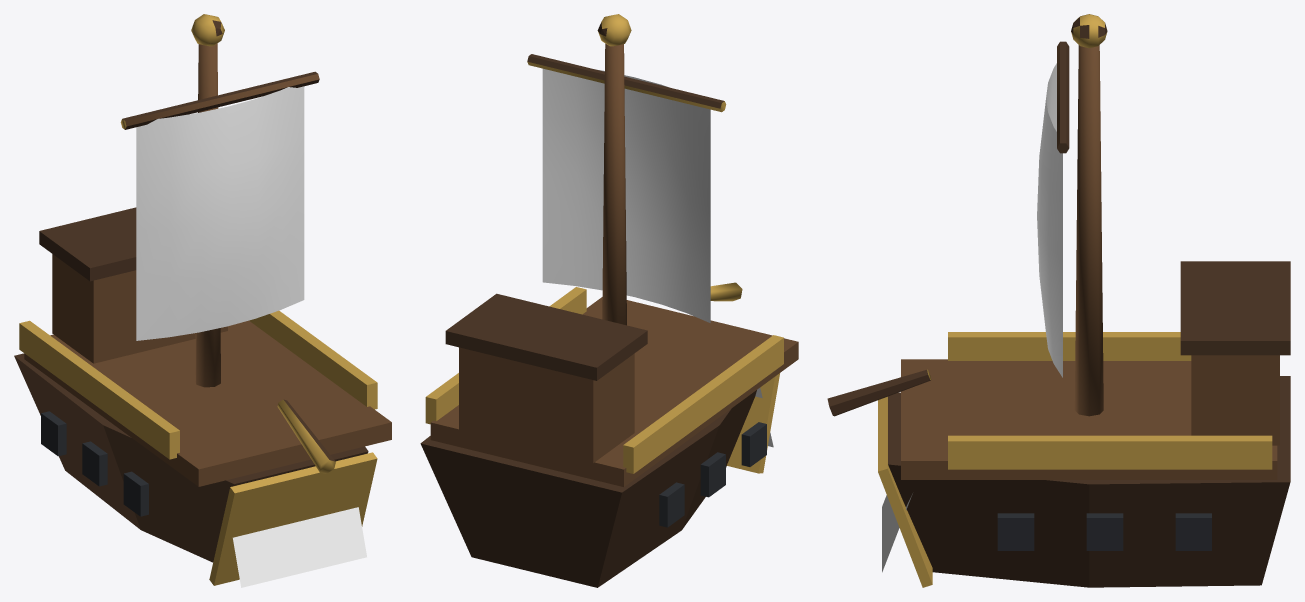
The model's file is ship.glb.
The picture shows the model from 3 angles, left to right: view 1: azimuth 30°, elevation 25°; view 2: azimuth 150°, elevation 25°; view 3: azimuth 270°, elevation 25°; orthographic projection. The views are drawn at different scales.
Parts seen in each view (by area): view 1: ship_body, sail, plate_frame, number_plate; view 2: ship_body, sail, plate_frame; view 3: ship_body, sail, plate_frame, number_plate.
Part boxes in pixels (x1,y1,x2,y2): ship_body: [14, 14, 391, 562]; sail: [136, 86, 304, 340]; plate_frame: [209, 452, 377, 585]; number_plate: [233, 507, 366, 587]; ship_body: [420, 14, 798, 587]; sail: [542, 68, 710, 322]; plate_frame: [727, 373, 779, 473]; ship_body: [827, 14, 1290, 587]; sail: [1037, 63, 1062, 377]; plate_frame: [878, 396, 932, 587]; number_plate: [882, 493, 912, 572].
Bounding box in the file's own units: 0.524 × 1.13 × 0.8858.
